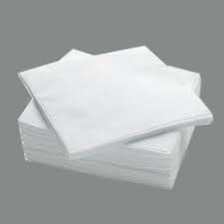tissue: (10, 35, 219, 194)
